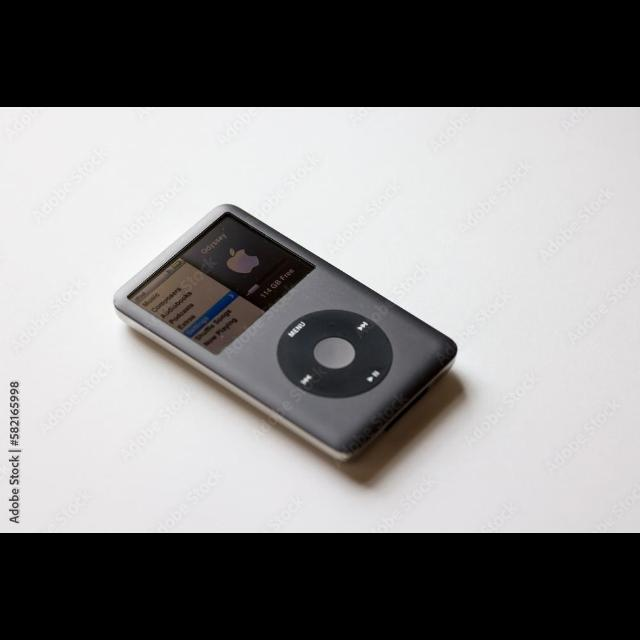Music-Player: (110, 198, 474, 468)
